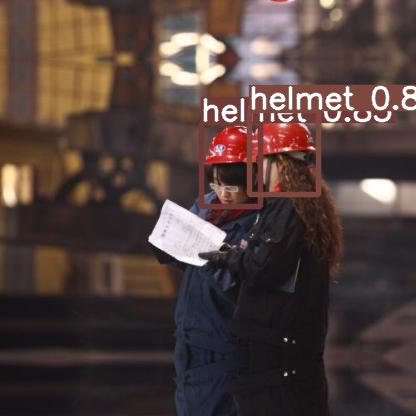helmet: (249, 110, 318, 194), (201, 122, 260, 206)
